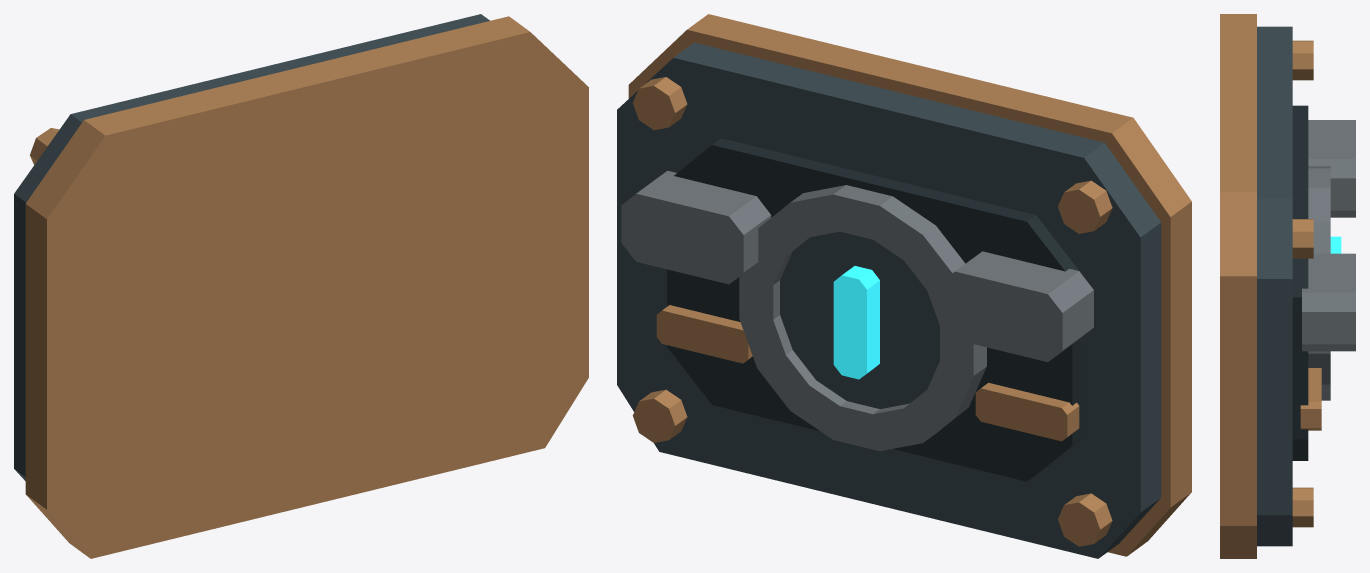
The model's file is e8d-wardens-plate-relief.glb.
3 renders of one model, left to right at view 1: azimuth 30°, elevation 25°; view 2: azimuth 150°, elevation 25°; view 3: azimuth 270°, elevation 25°, orthographic. The views are drawn at different scales.
Visible parts, largest first — view 1: Warden's Plate · broad latch relief; view 2: Warden's Plate · broad latch relief; view 3: Warden's Plate · broad latch relief.
Part boxes in pixels (box(x1,y1,x2,y2)): Warden's Plate · broad latch relief: box(14, 14, 588, 558); Warden's Plate · broad latch relief: box(617, 14, 1191, 558); Warden's Plate · broad latch relief: box(1220, 14, 1355, 558).
Bounding box in the file's own units: 0.408 × 0.302 × 0.103.
